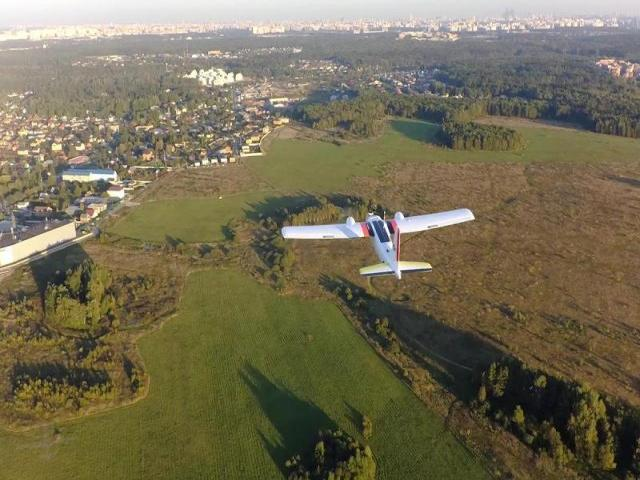hedef: (278, 193, 482, 303)
